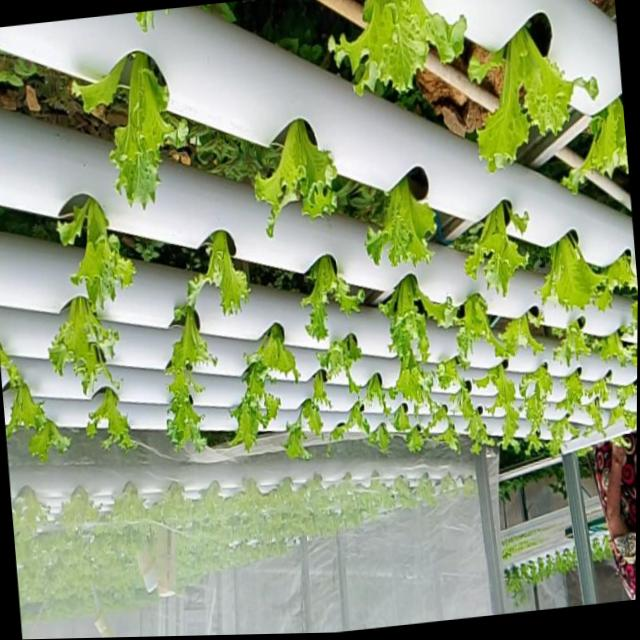Baby: (472, 30, 601, 174), (332, 0, 470, 95), (116, 51, 191, 208), (257, 118, 341, 236), (64, 195, 141, 308), (170, 295, 220, 449), (369, 166, 441, 264), (55, 294, 123, 392), (468, 199, 533, 295), (540, 233, 608, 314), (305, 253, 368, 339), (192, 228, 253, 313), (449, 292, 519, 362), (233, 361, 283, 449), (321, 331, 379, 391), (8, 362, 54, 435), (249, 321, 304, 378), (92, 385, 141, 447), (523, 363, 557, 448), (393, 348, 437, 410), (552, 417, 583, 456), (562, 371, 588, 414), (440, 357, 464, 389), (589, 397, 609, 434), (432, 401, 454, 431)
